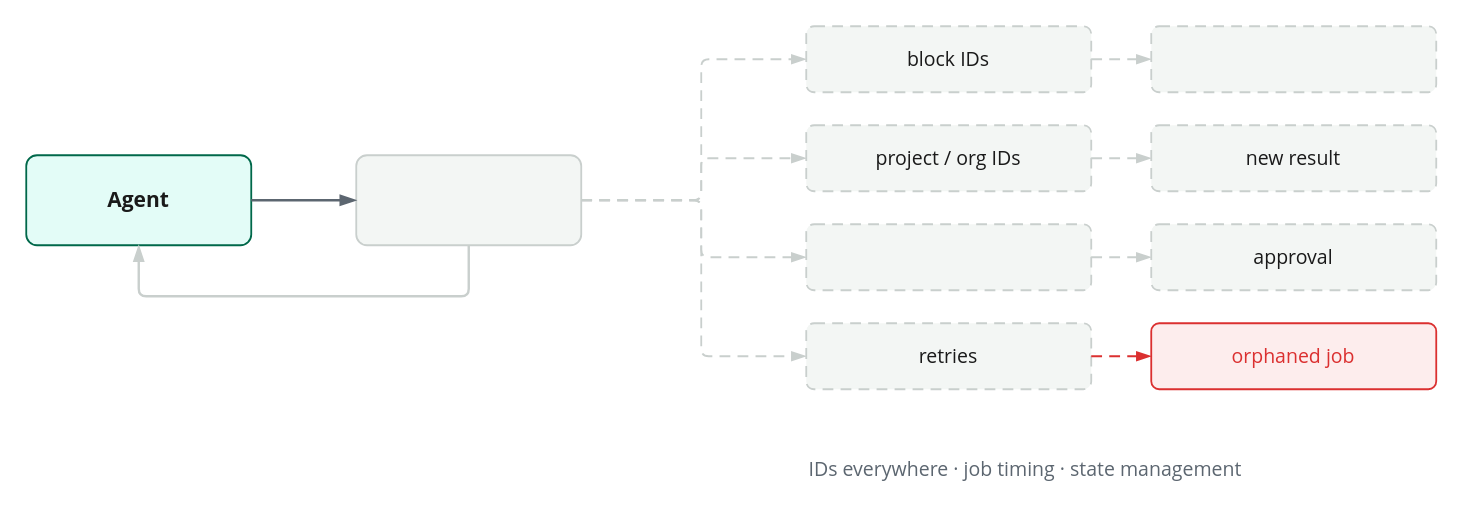
This 1464x518 diagram has some shape labels left out. The shapes that lost their labels are listed below. From the top down, each one's box as (x1, y1, x2, y2) in pixels, then its label:
(1150, 25, 1436, 92): previous config
(355, 154, 581, 245): Tools
(805, 223, 1091, 290): job status
